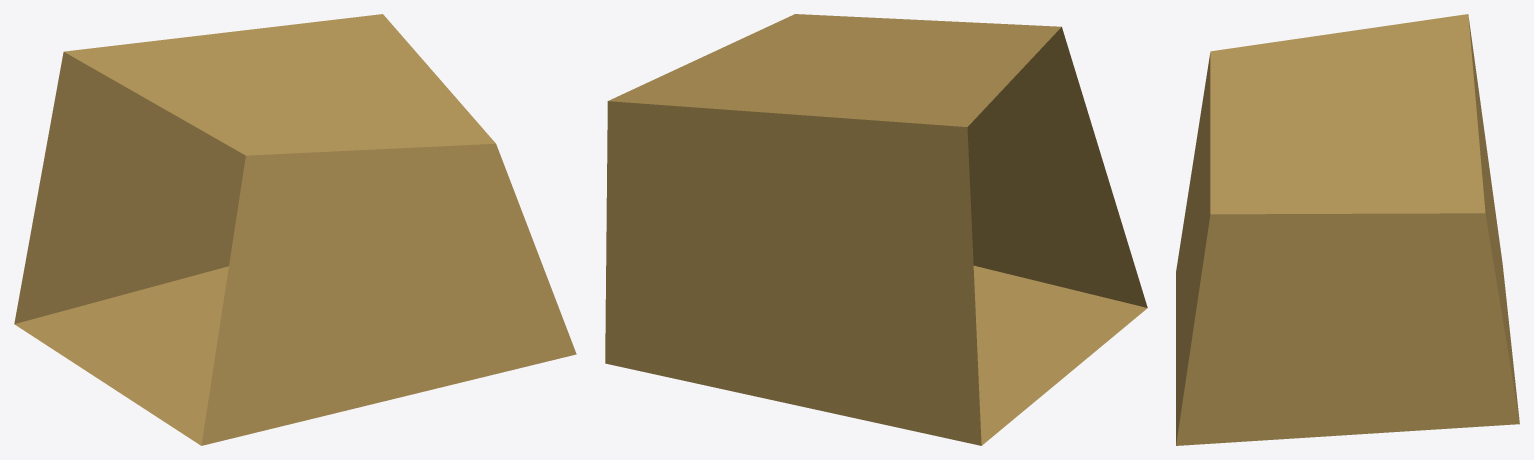
File: Scrap_CrushedCasing.fbx
3 views of the same model, side by side, from view 1: azimuth 30°, elevation 25°; view 2: azimuth 150°, elevation 25°; view 3: azimuth 270°, elevation 25° (orthographic). The views are drawn at different scales.
Parts seen in each view (by area): view 1: Scrap_CrushedCasing; view 2: Scrap_CrushedCasing; view 3: Scrap_CrushedCasing.
Part boxes in pixels (x1=…): Scrap_CrushedCasing: x1=14, y1=14, x2=576, y2=445; Scrap_CrushedCasing: x1=605, y1=14, x2=1147, y2=445; Scrap_CrushedCasing: x1=1176, y1=14, x2=1519, y2=445.
Bounding box in the file's own units: 125 × 85 × 100.
